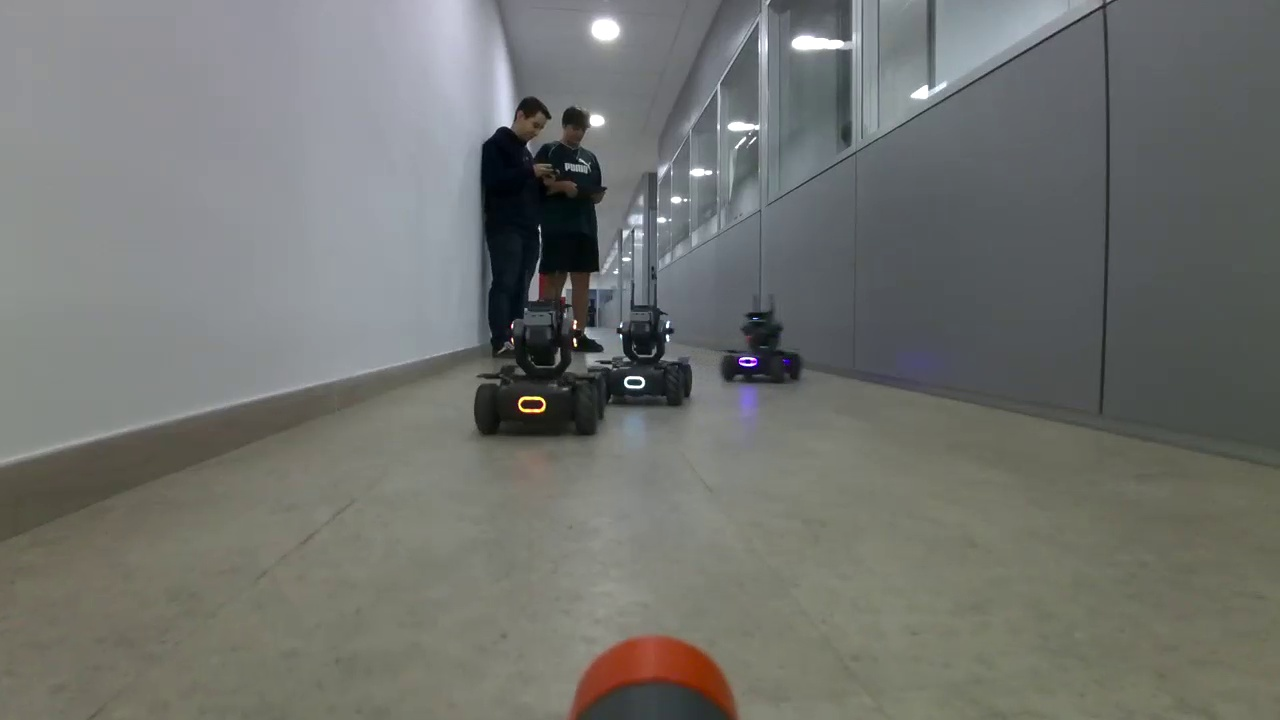robot: (474, 298, 608, 436), (588, 303, 693, 408), (721, 310, 804, 385)
